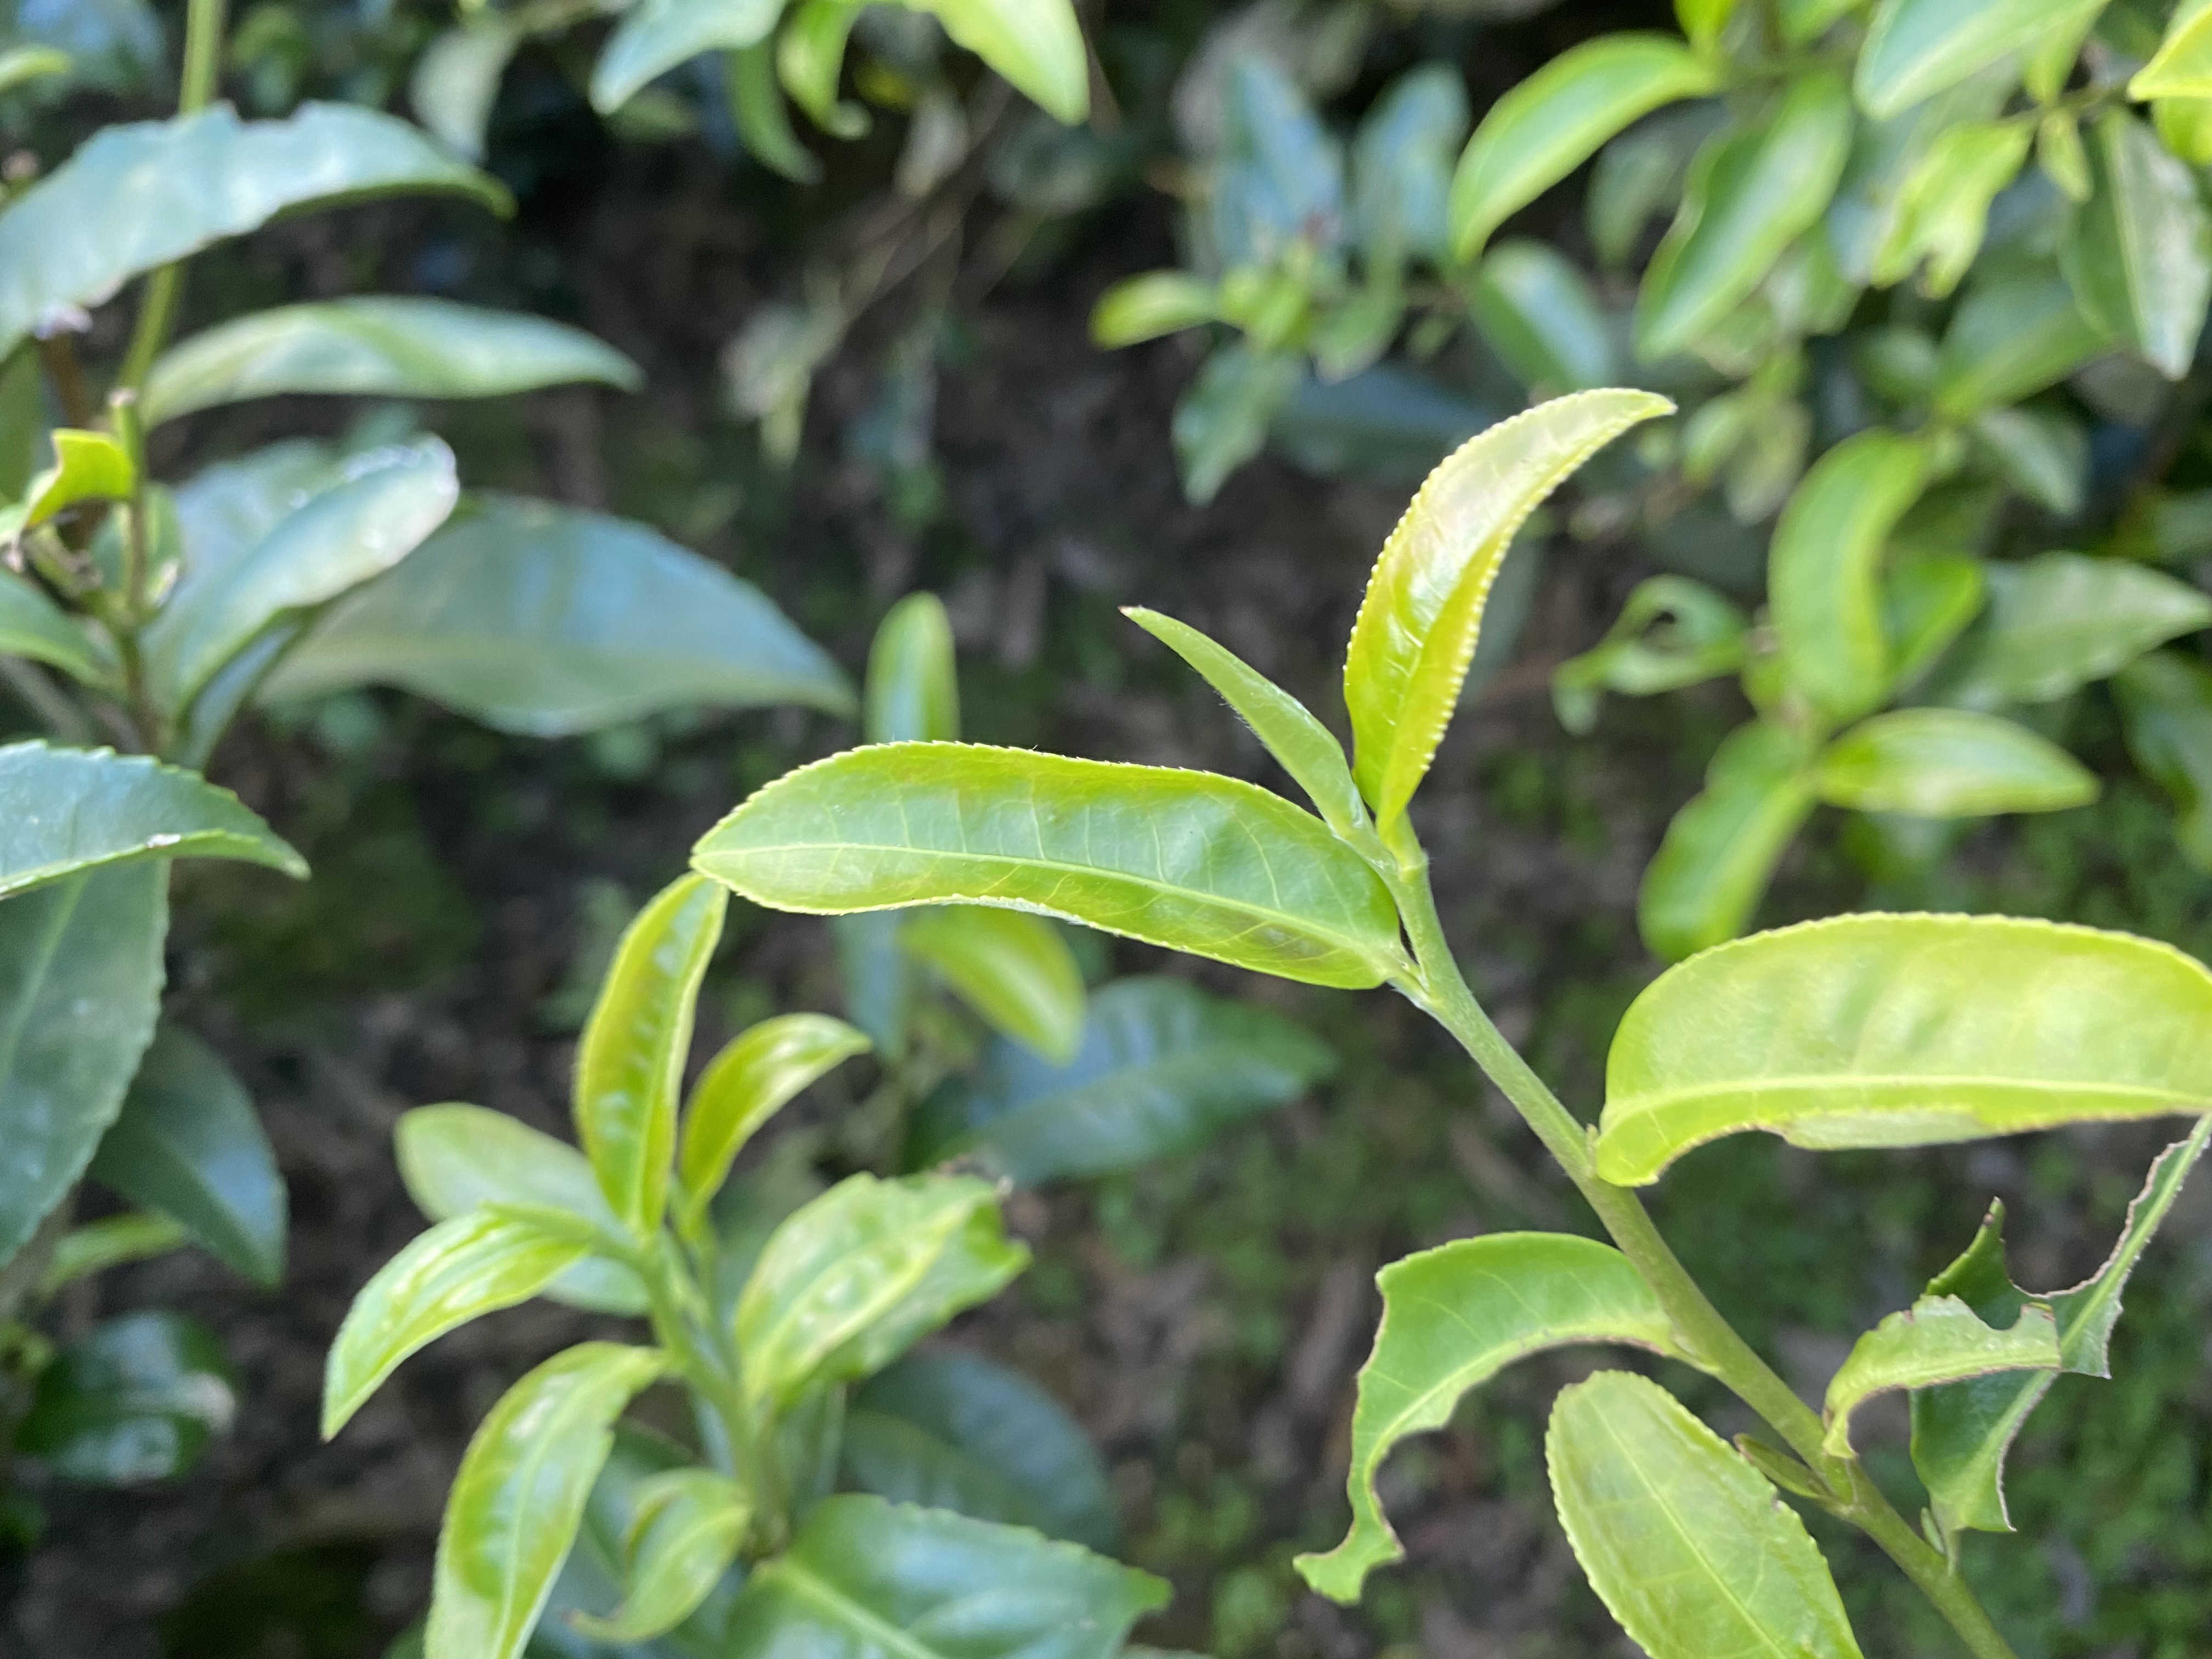chihuo_high: (1292, 1223, 1651, 1605), (1907, 1114, 2210, 1539), (1820, 1290, 2067, 1460)
chihuo_low: (1590, 906, 2212, 1192)
healthy: (685, 742, 1407, 995), (1341, 382, 1679, 830), (1540, 1366, 1862, 1659), (421, 1335, 664, 1657), (314, 1208, 608, 1446), (566, 871, 728, 1243), (679, 1009, 873, 1230)
